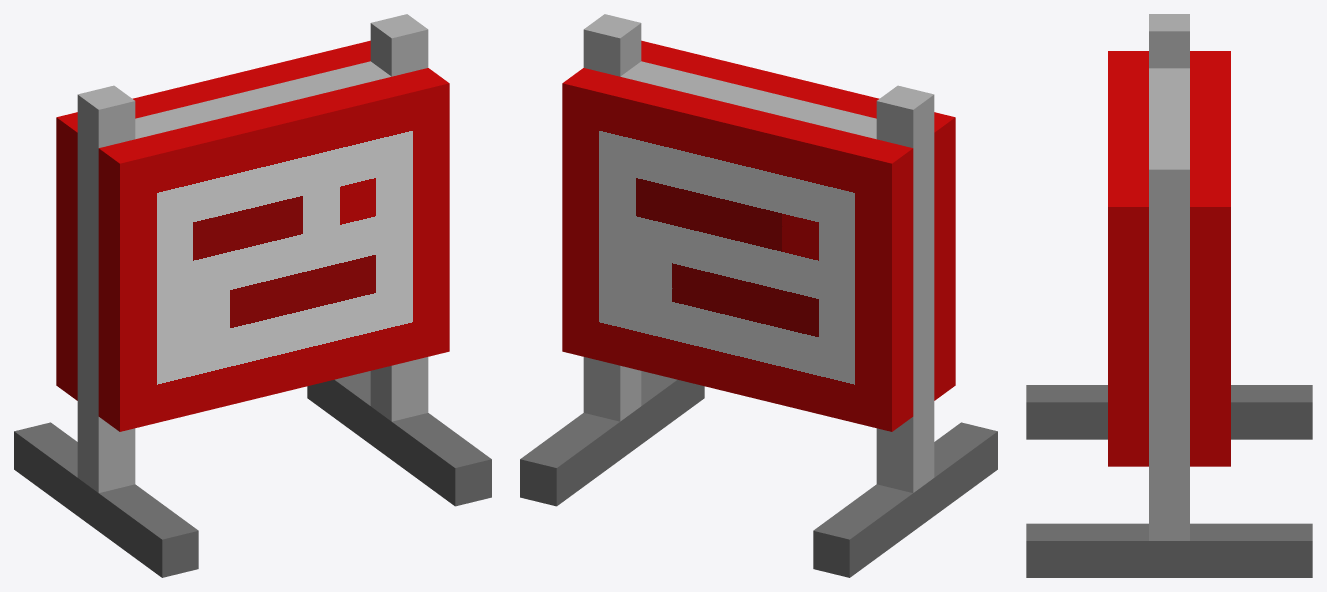
File: obj_sign8.dae
The picture shows the model from 3 angles, left to right: view 1: azimuth 30°, elevation 25°; view 2: azimuth 150°, elevation 25°; view 3: azimuth 270°, elevation 25°; orthographic projection. The views are drawn at different scales.
Visible parts, largest first — view 1: obj_sign8; view 2: obj_sign8; view 3: obj_sign8.
Part boxes in pixels (x1,y1,x2,y2): obj_sign8: (14, 14, 491, 577); obj_sign8: (520, 14, 997, 577); obj_sign8: (1026, 14, 1312, 577).
Bounding box in the file's own units: 0.9 × 0.7 × 1.1.
Materials: 1 (1 with a texture image).
